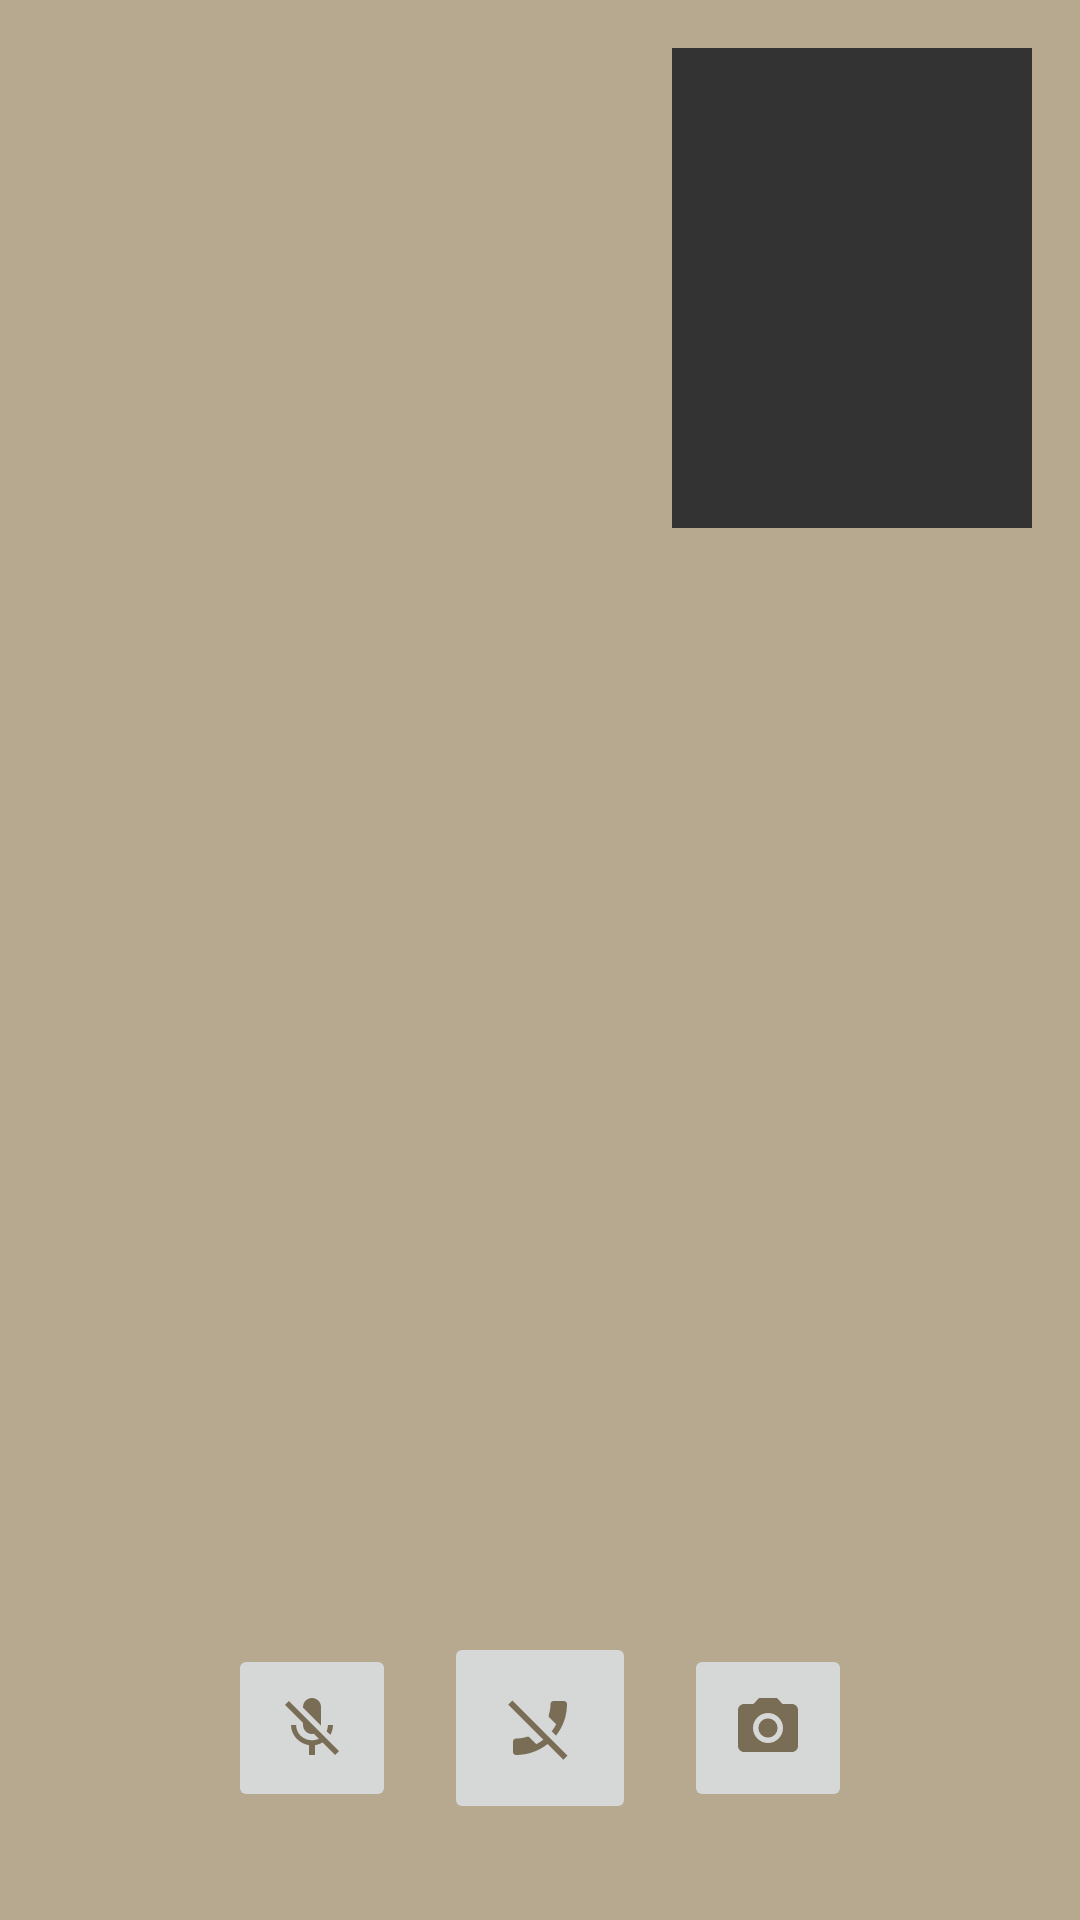

Named icons in this screenshot (1080×1920) and their centers, [x,y]:
Camera: [768,1728]
End Call: [540,1728]
Mute: [312,1728]
